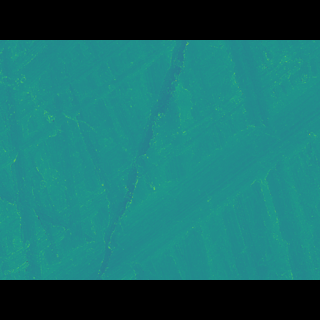Loch: (37, 97, 319, 249), (92, 68, 197, 250), (0, 70, 173, 167), (0, 70, 43, 250)
